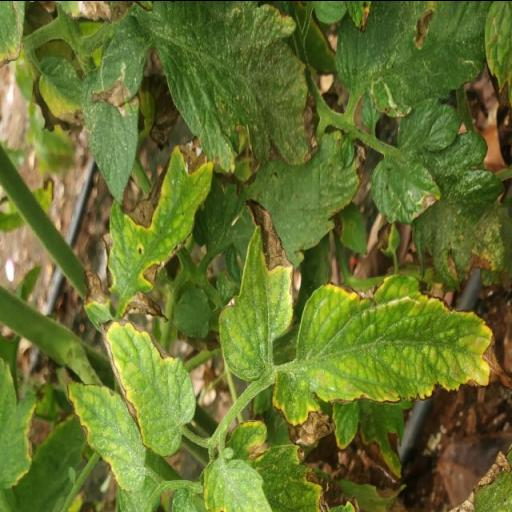disease_tomato: (272, 272, 512, 450), (76, 132, 220, 326), (332, 0, 484, 119), (218, 191, 296, 380)
